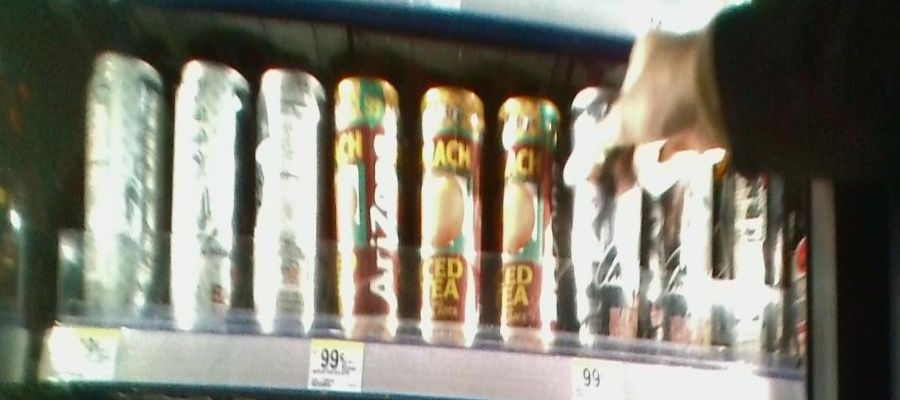bottle: (166, 35, 251, 351), (77, 51, 167, 346), (326, 61, 407, 360), (410, 66, 486, 372), (254, 57, 329, 358), (490, 86, 563, 364)
